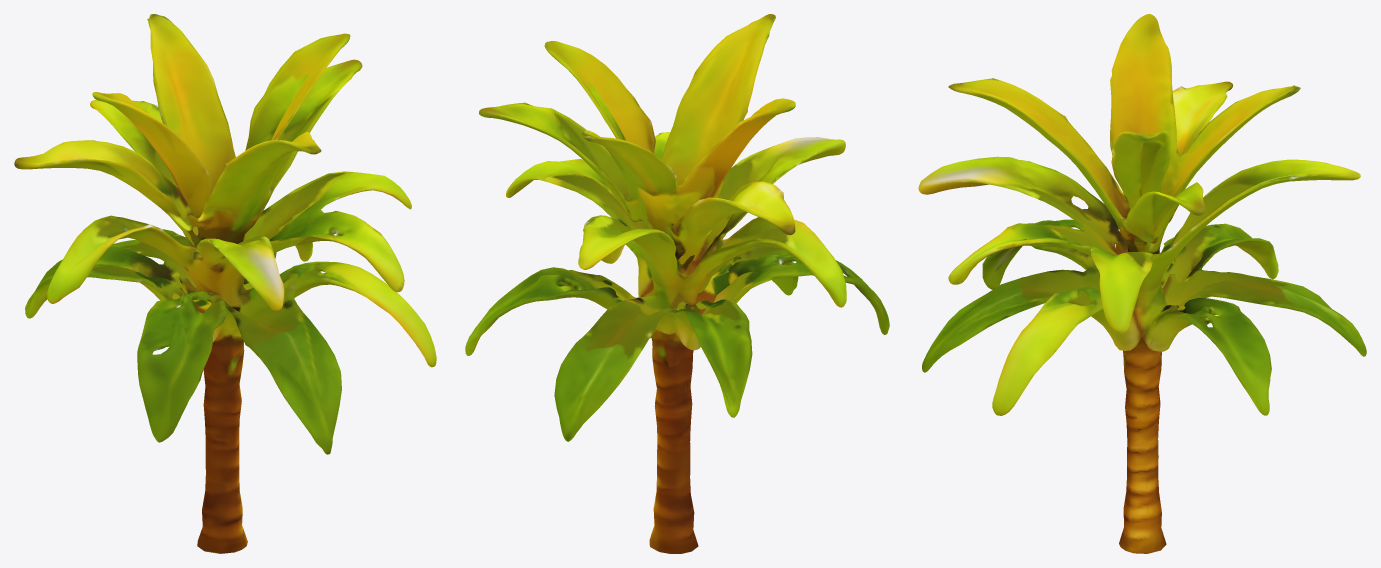
The model's file is base_basic_shaded.fbx.
The picture shows the model from 3 angles, left to right: view 1: azimuth 30°, elevation 25°; view 2: azimuth 150°, elevation 25°; view 3: azimuth 270°, elevation 25°; orthographic projection.
Parts seen in each view (by area): view 1: model; view 2: model; view 3: model.
Boxes of the visible parts, left/top/right/bottom form: model: left=14, top=14, right=436, bottom=553; model: left=465, top=14, right=889, bottom=553; model: left=918, top=14, right=1366, bottom=553.
Bounding box in the file's own units: 135 × 175 × 151.
